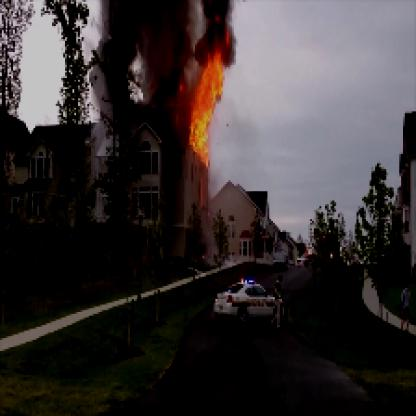Fire: (182, 22, 232, 162)
Smoke: (106, 2, 195, 124)
